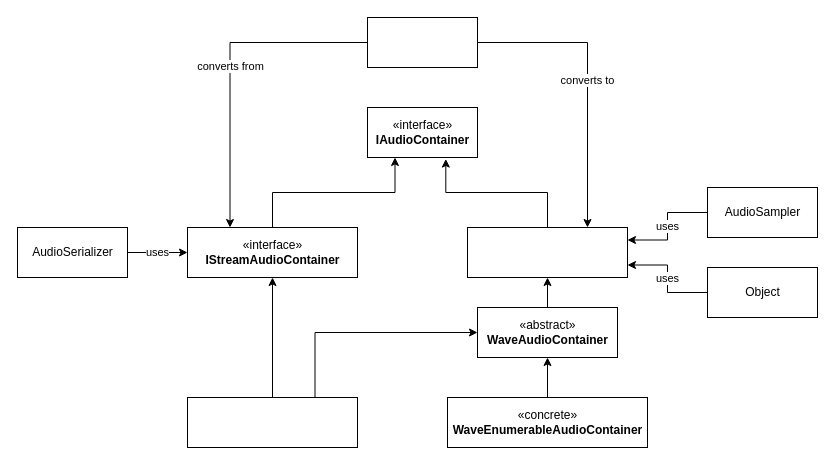
This 835x465 diagram has some shape labels left out. Each missing label, with the box of its shape:
AudioConverter: (366, 16, 478, 68)
«concrete» WaveStreamAudioContainer: (186, 396, 358, 448)
«interface» IWaveAudioContainer: (466, 226, 628, 278)
